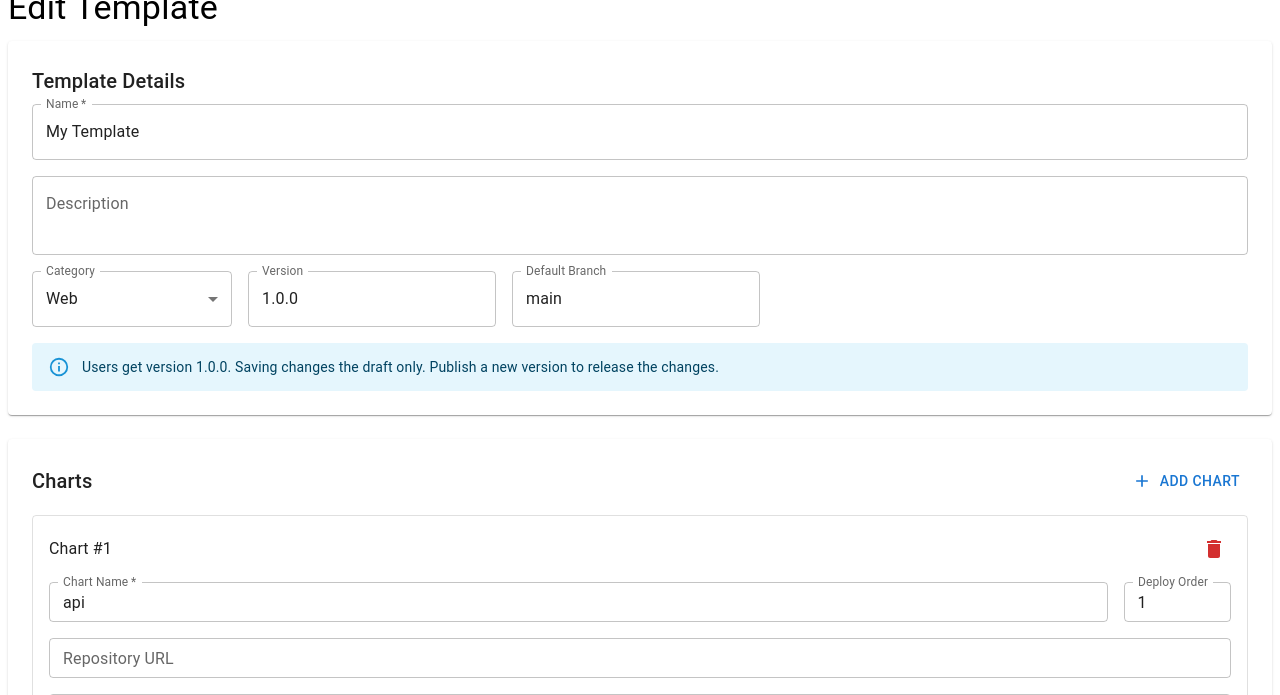
Test: Templates Builder › shows an error and does not navigate when deleting a chart fails
Check: the field showing "api" is shown, box [49, 582, 1108, 622]
Click the button named "Remove chart 1": [1214, 549] box [1197, 532, 1231, 566]
(page scrolled)
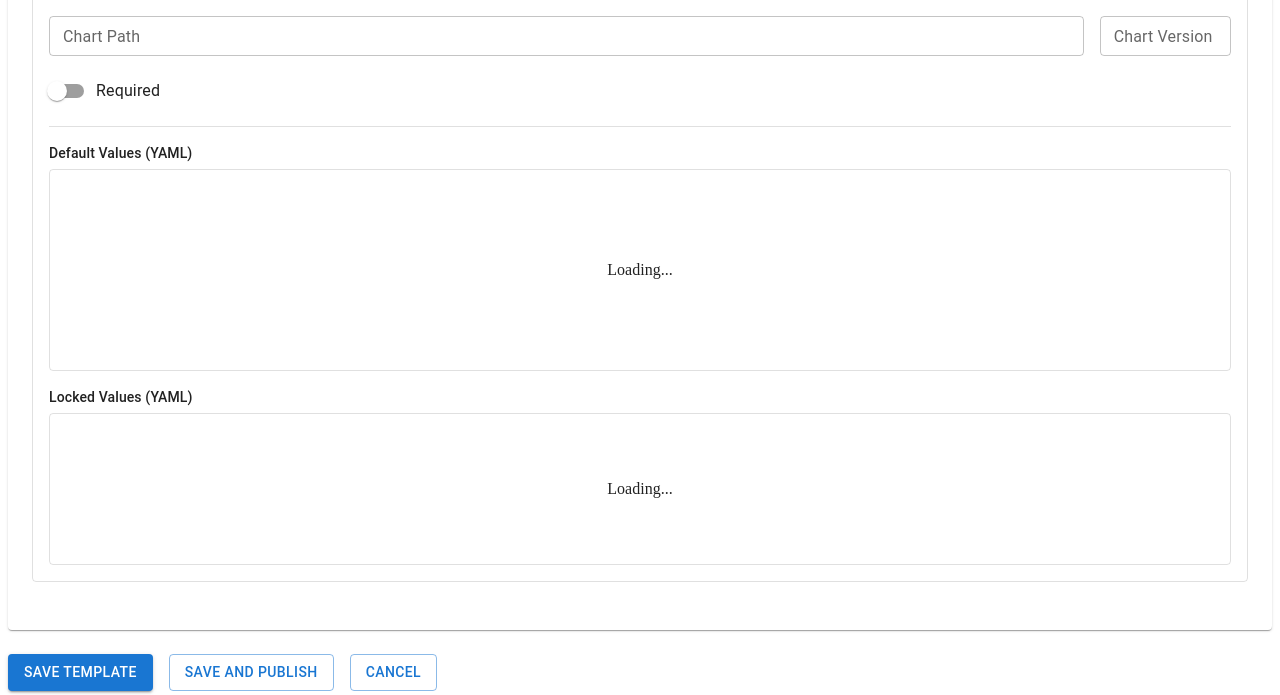
Click the button "Save Template": [80, 673] box [8, 654, 153, 691]
(page scrolled)
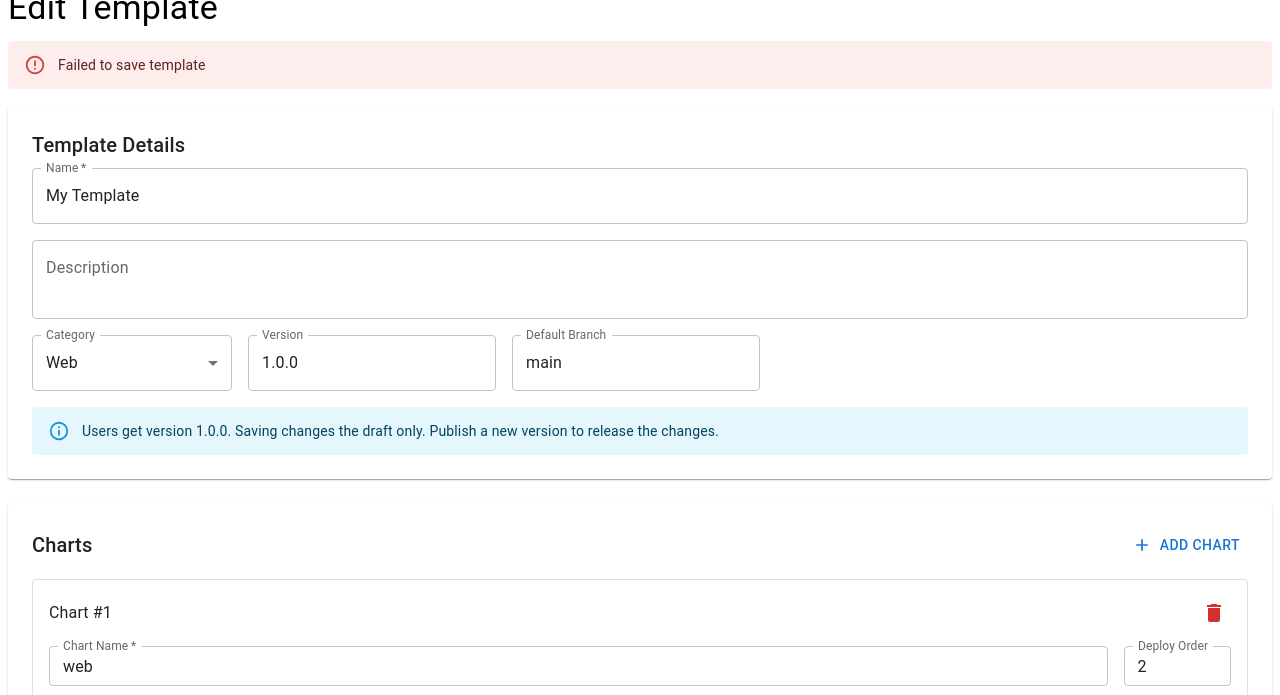
Check: the text "Failed to save template" is shown, box [58, 57, 206, 73]
